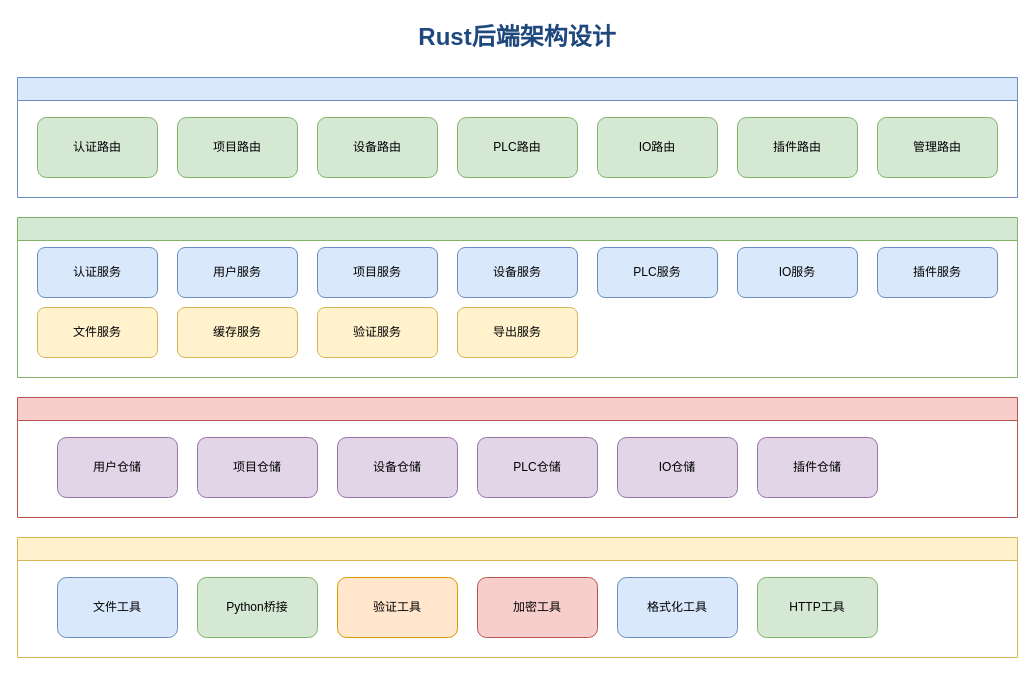
Image size: 1035x675. Some labels were removed from this diagram. Each missing label, with the box of its shape:
API接口层 (Axum): (16, 76, 1018, 198)
业务服务层: (16, 216, 1018, 378)
工具库层: (16, 536, 1018, 658)
数据访问层 (Repository): (16, 396, 1018, 518)
